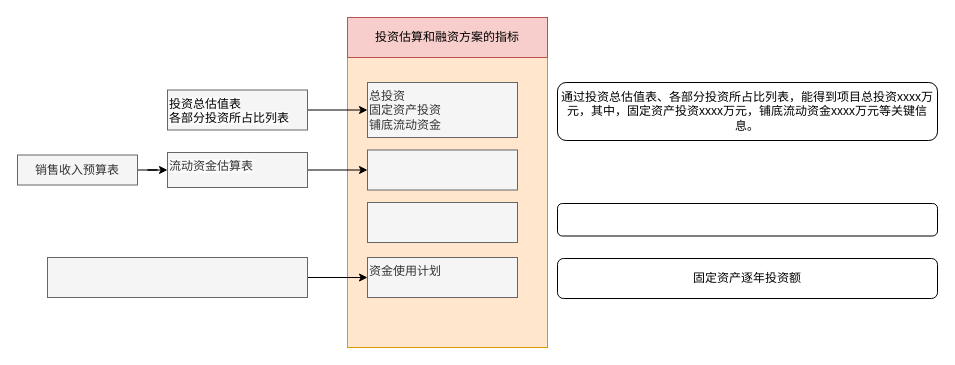
The diagram is 955 pixels wide and 365 high, and some of its shapes have lost their labels. The shapes that lost their labels are listed below. From the top down, each one's centre as x and y in pixels, then its label:
the point at 442,169: 流动资金总额
the point at 442,222: 融资方案
the point at 747,219: 企业自筹或银行贷款
the point at 177,277: 项目投资使用计划与资金筹措表
